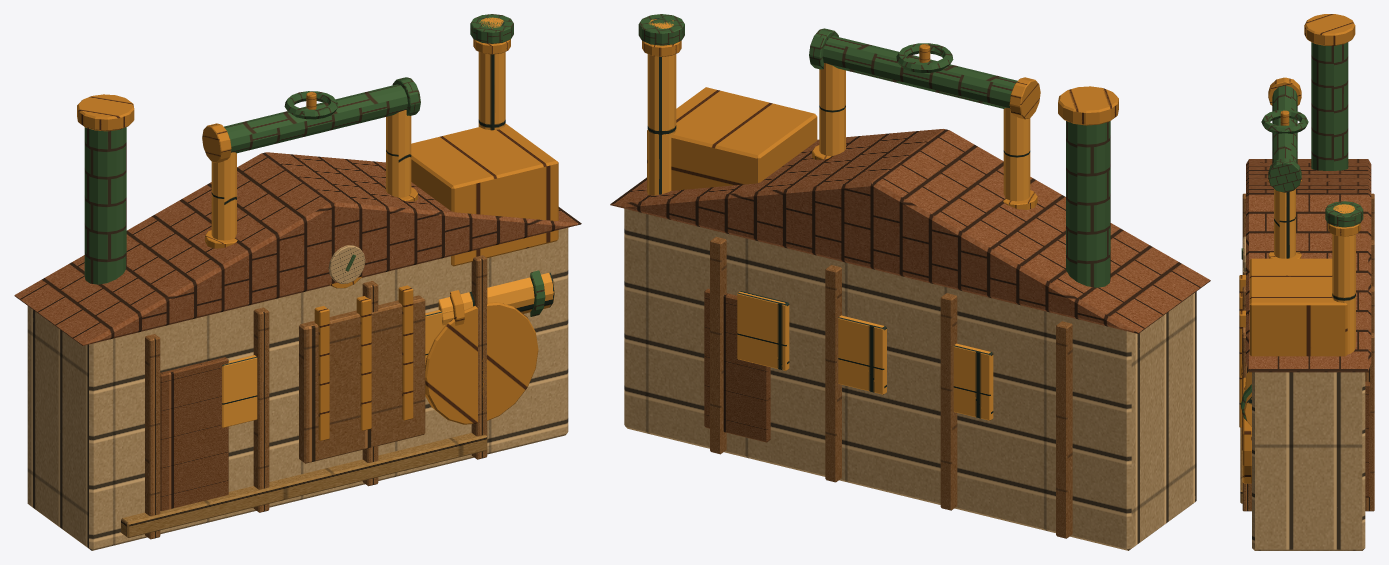
Rendered from stamp-mill.e2.glb.
3 views of the same model, side by side, from view 1: azimuth 30°, elevation 25°; view 2: azimuth 150°, elevation 25°; view 3: azimuth 270°, elevation 25° (orthographic). The views are drawn at different scales.
Parts seen in each view (by area): view 1: StampMillE2; view 2: StampMillE2; view 3: StampMillE2.
Part boxes in pixels (x1,y1,x2,y2): StampMillE2: (14,14,581,550); StampMillE2: (610,14,1210,550); StampMillE2: (1239,14,1374,550).
Size of the model in its own units: 5.95 by 4.56 by 1.6.
1 material, 1 textured.
